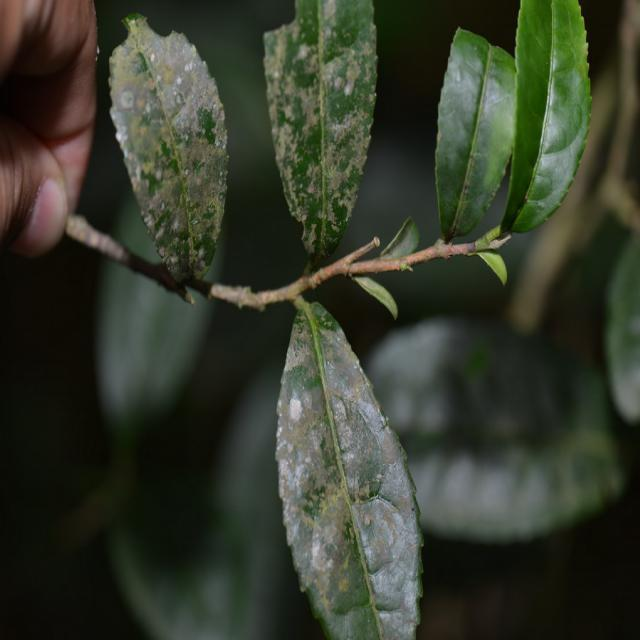Tea algae leaf spot: (287, 316, 425, 604), (119, 57, 238, 282)
